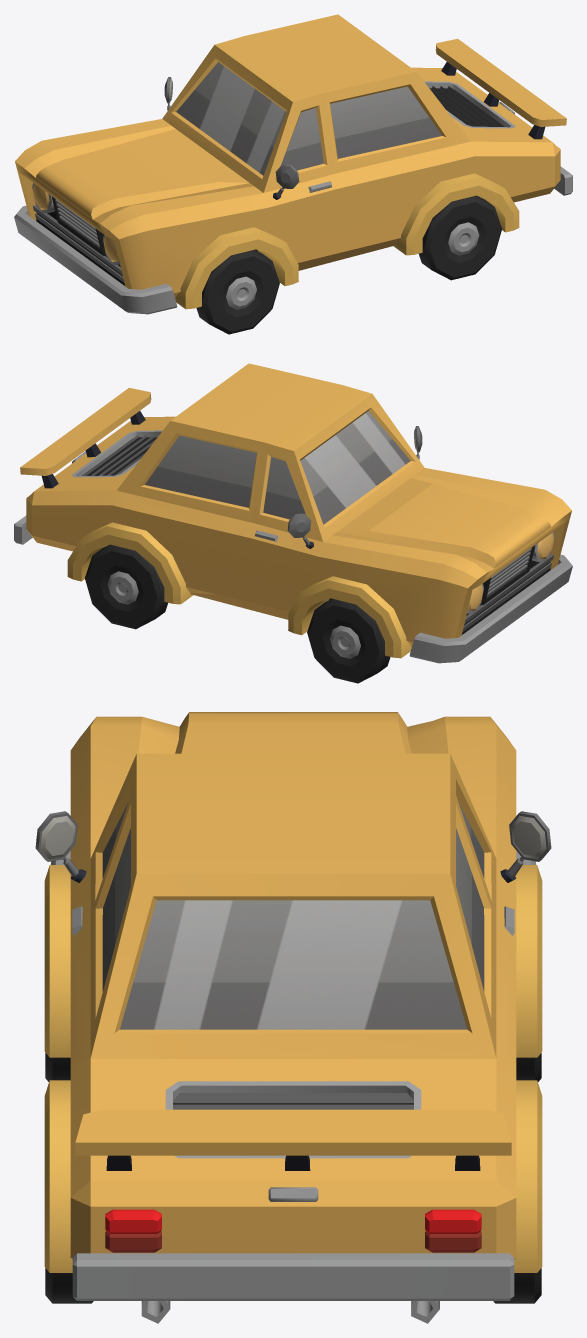
Rendered from Car_9_H.gltf.
3 views of the same model, one above another, from view 1: azimuth 30°, elevation 25°; view 2: azimuth 150°, elevation 25°; view 3: azimuth 270°, elevation 25° (orthographic). The views are drawn at different scales.
Parts seen in each view (by area): view 1: Car_9_H, RL, FL; view 2: Car_9_H, RR, FR; view 3: Car_9_H, RL, RR.
Boxes of the visible parts, left/top/right/bottom form: Car_9_H: left=14, top=14, right=572, bottom=314; RL: left=419, top=195, right=501, bottom=280; FL: left=196, top=249, right=279, bottom=334; Car_9_H: left=14, top=363, right=572, bottom=663; RR: left=85, top=544, right=167, bottom=629; FR: left=307, top=598, right=390, bottom=683; Car_9_H: left=35, top=712, right=551, bottom=1323; RL: left=45, top=1268, right=93, bottom=1303; RR: left=493, top=1268, right=541, bottom=1303.
Bounding box in the file's own units: 3.1 × 1.28 × 1.51.
Materials: 4 (4 with a texture image).
